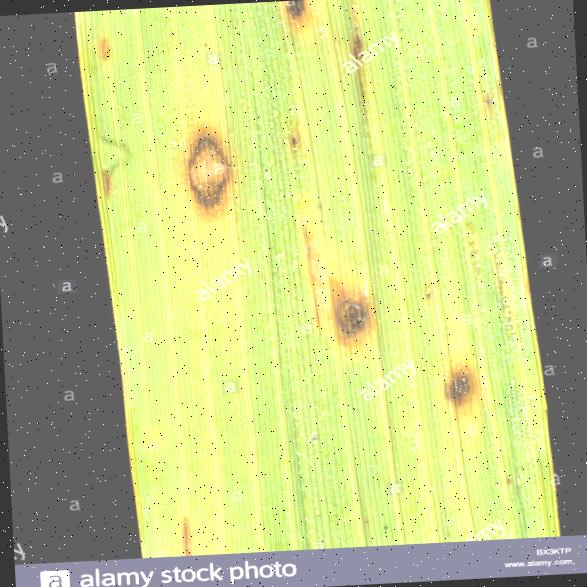Brown_Spot: (283, 233, 387, 354), (169, 113, 255, 227), (432, 348, 489, 432), (275, 0, 331, 47), (165, 504, 213, 558), (92, 162, 126, 205), (87, 28, 111, 66), (280, 116, 302, 156)
